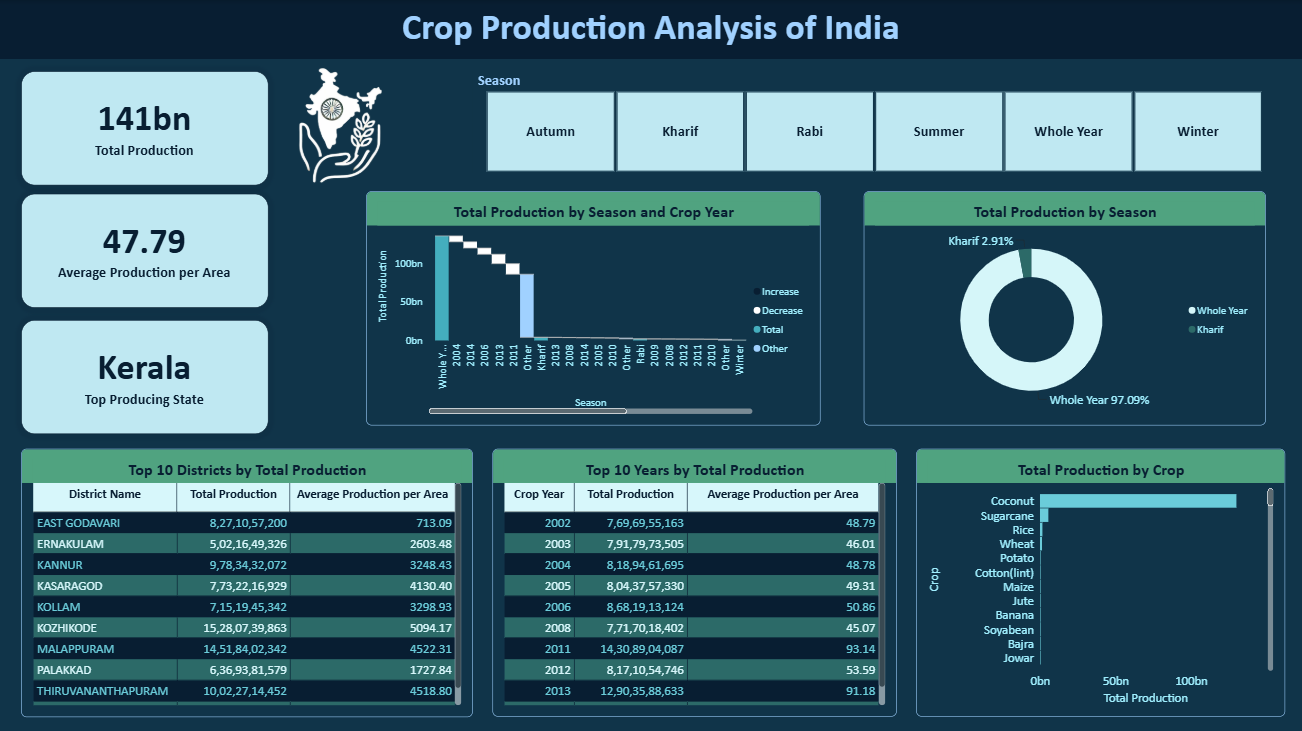

This screenshot's page, from the dashboard's own definition file:
{"tool":"powerbi","page":{"name":"Overview and Insights","canvas":[1920,1080],"ordinal":0},"visuals":[{"type":"shape","box":[0,0,1920.1,86.9],"z":0},{"type":"textbox","box":[501.3,7.2,915.7,74.2],"z":1000},{"type":"waterfallChart","title":"Total Production by Season and Crop Year ","fields":{"Category":["Crop Production.Season"],"Breakdown":["Crop Production.Crop Year"],"Y":["Crop Production.Total Production"]},"box":[540,282.5,668.7,345.1],"z":2000},{"type":"donutChart","fields":{"Category":["Crop Production.Season"],"Y":["Crop Production.Total Production"]},"box":[1271.3,282.5,591.8,345.1],"z":3000},{"type":"tableEx","title":"Top 10 Districts by Total Production","fields":{"Values":["Crop Production.District Name","Crop Production.Total Production","Crop Production.Average Production per Area"]},"box":[30.8,660.5,664.8,395.2],"z":4000},{"type":"tableEx","title":"Top 10 Years by Total Production","fields":{"Values":["Crop Production.Crop Year","Crop Production.Total Production","Crop Production.Average Production per Area"]},"box":[725.7,660.5,595.4,394.5],"z":5000},{"type":"barChart","fields":{"Category":["Crop Production.Crop"],"Y":["Crop Production.Total Production"]},"box":[1350,660.5,542.9,394.5],"z":6000},{"type":"cardVisual","fields":{"Data":["Crop Production.Total Production"]},"box":[30.8,105,363.7,168.3],"z":7000},{"type":"cardVisual","fields":{"Data":["Crop Production.Average Production per Area"]},"box":[30.8,285.9,363.7,168.3],"z":8000},{"type":"cardVisual","fields":{"Data":["Crop Production.Top Producing State"]},"box":[30.8,470.5,363.7,168.3],"z":9000},{"type":"slicer","fields":{"Values":["Crop Production.Season"]},"box":[695.5,105.5,1181.7,150.2],"z":10000},{"type":"image","box":[395.2,93,211.7,181],"z":11000}]}

Visuals, with their boxes in screenshot pixels (x1, y1, x2, y2), scaled from the page's 1920x1080 canvas onto the 1302x731 screenshot:
shape: <bbox>0, 0, 1301, 59</bbox>
textbox: <bbox>340, 5, 961, 55</bbox>
"Total Production by Season and Crop Year " waterfallChart: <bbox>366, 191, 820, 425</bbox>
donutChart - Crop Production.Season x Crop Production.Total Production: <bbox>862, 191, 1263, 425</bbox>
"Top 10 Districts by Total Production" tableEx: <bbox>21, 447, 472, 715</bbox>
"Top 10 Years by Total Production" tableEx: <bbox>492, 447, 896, 714</bbox>
barChart - Crop Production.Crop x Crop Production.Total Production: <bbox>915, 447, 1284, 714</bbox>
cardVisual - Crop Production.Total Production: <bbox>21, 71, 268, 185</bbox>
cardVisual - Crop Production.Average Production per Area: <bbox>21, 194, 268, 307</bbox>
cardVisual - Crop Production.Top Producing State: <bbox>21, 318, 268, 432</bbox>
slicer - Crop Production.Season: <bbox>472, 71, 1273, 173</bbox>
image: <bbox>268, 63, 412, 185</bbox>
